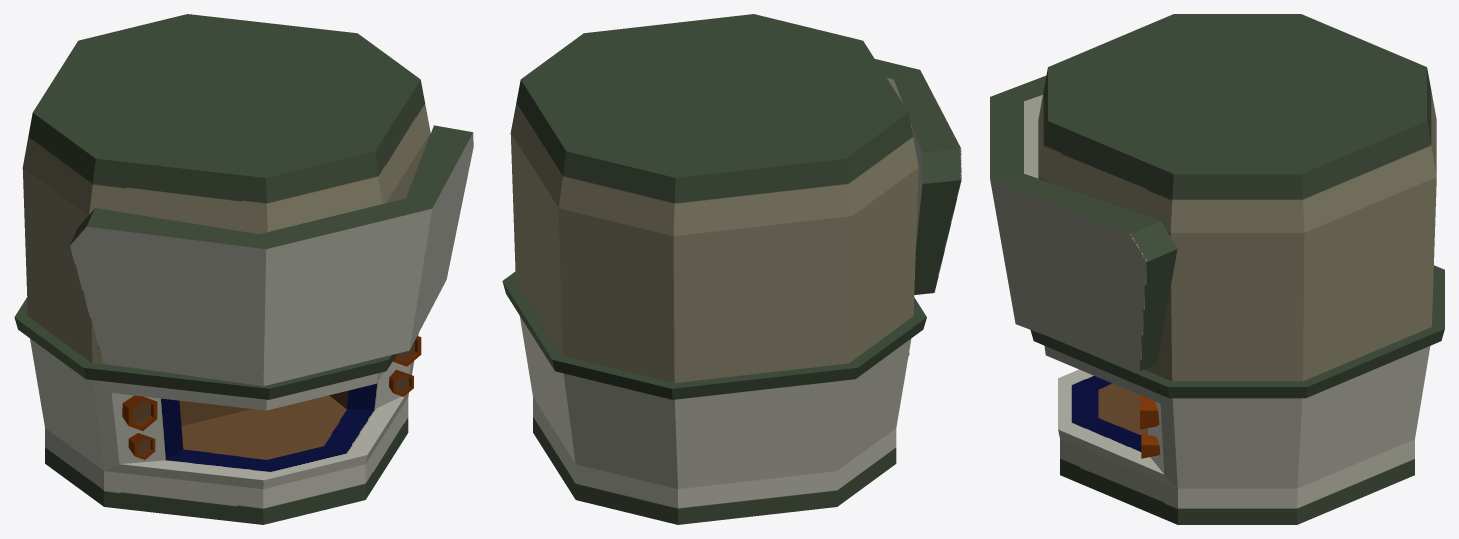
3 renders of one model, left to right at view 1: azimuth 30°, elevation 25°; view 2: azimuth 150°, elevation 25°; view 3: azimuth 270°, elevation 25°, orthographic.
Parts seen in each view (by area): view 1: 立方体.006; view 2: 立方体.006; view 3: 立方体.006.
Boxes of the visible parts, bbox=[...] form: 立方体.006: bbox=[14, 14, 473, 524]; 立方体.006: bbox=[502, 14, 961, 524]; 立方体.006: bbox=[990, 14, 1444, 524].
Size of the model in its own units: 255 by 212 by 246.
